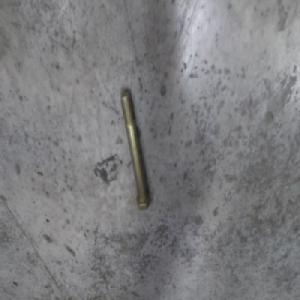Bolt: (121, 87, 150, 208)
